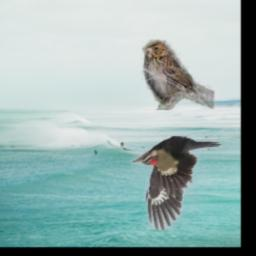Sparrow: (142, 41, 215, 111)
Woodpecker: (132, 137, 222, 231)
